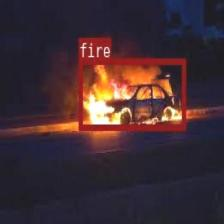fire: (78, 58, 185, 128)
